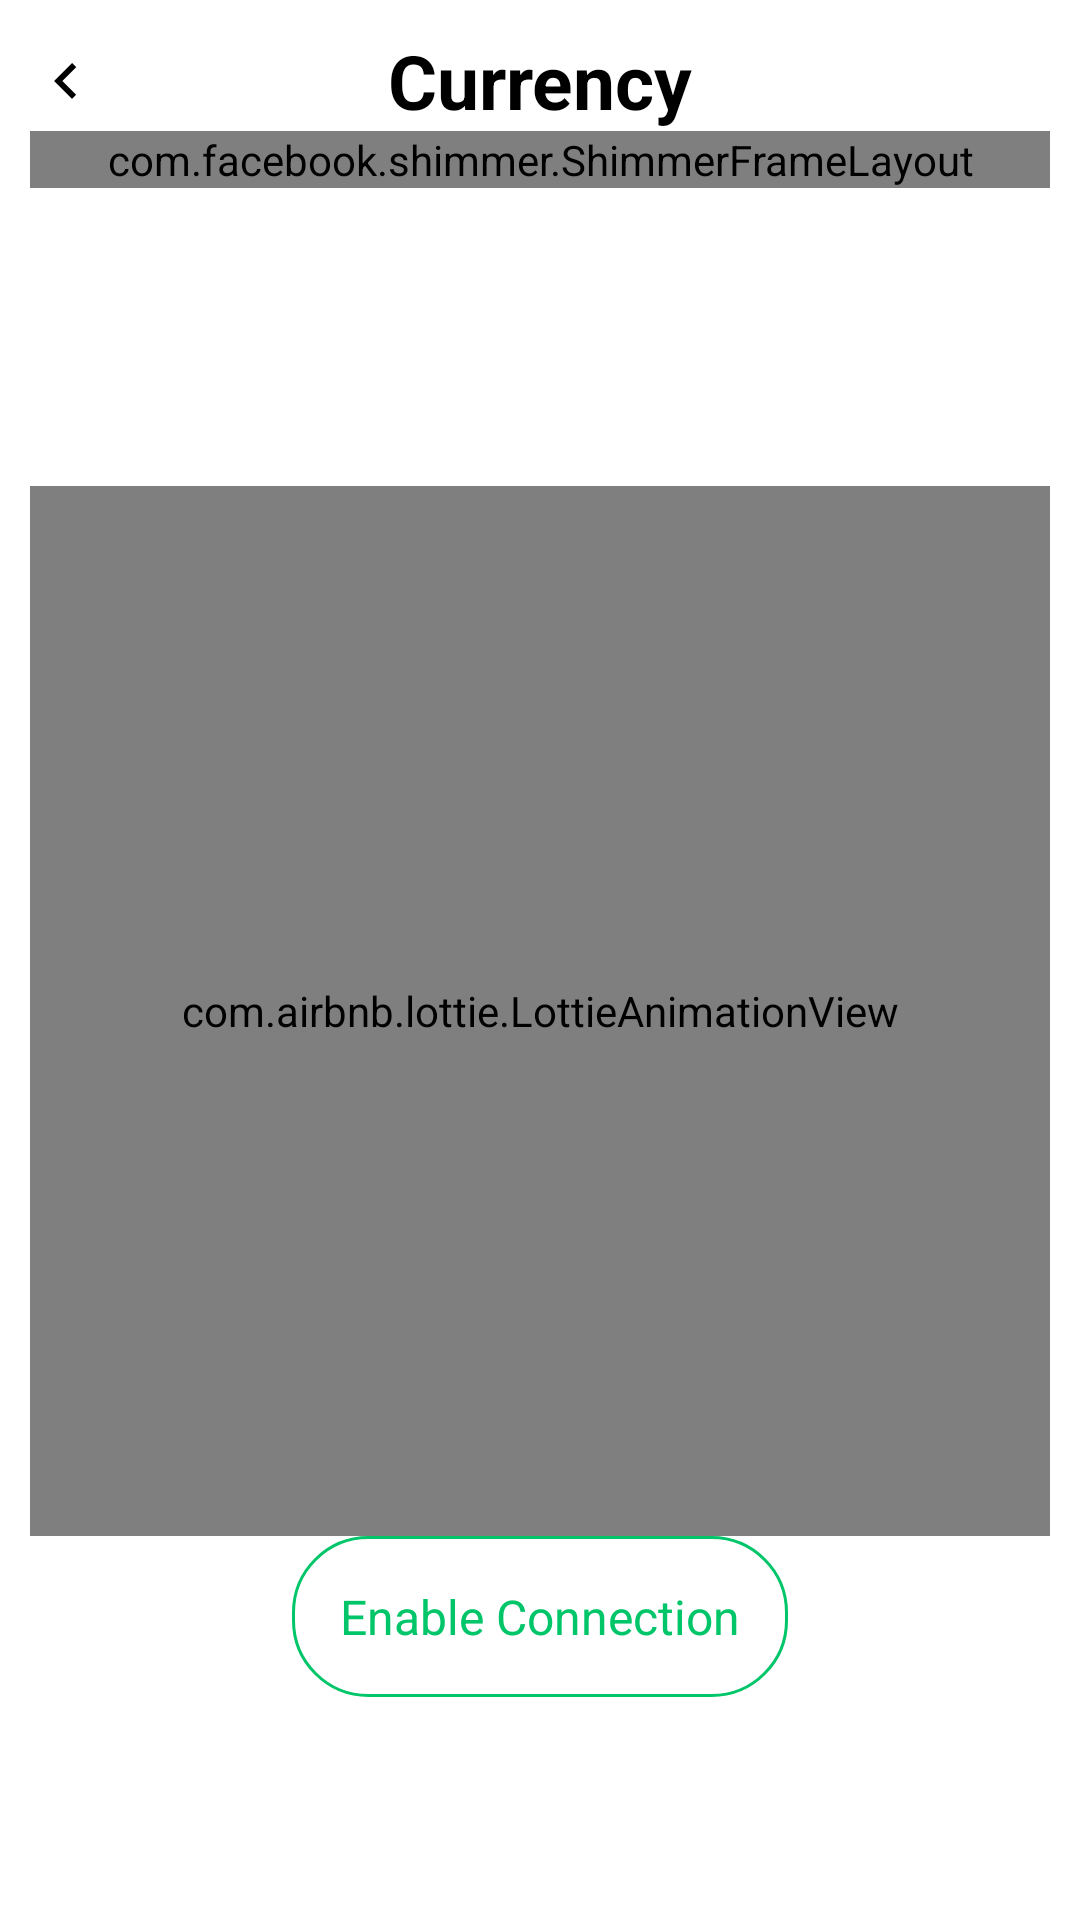

Named icons in this screenshot (1080×1920) and their bounding boxes, [left=x1, top=y1, right=x2, bottom=y2]:
Go back: [left=54, top=63, right=76, bottom=99]
